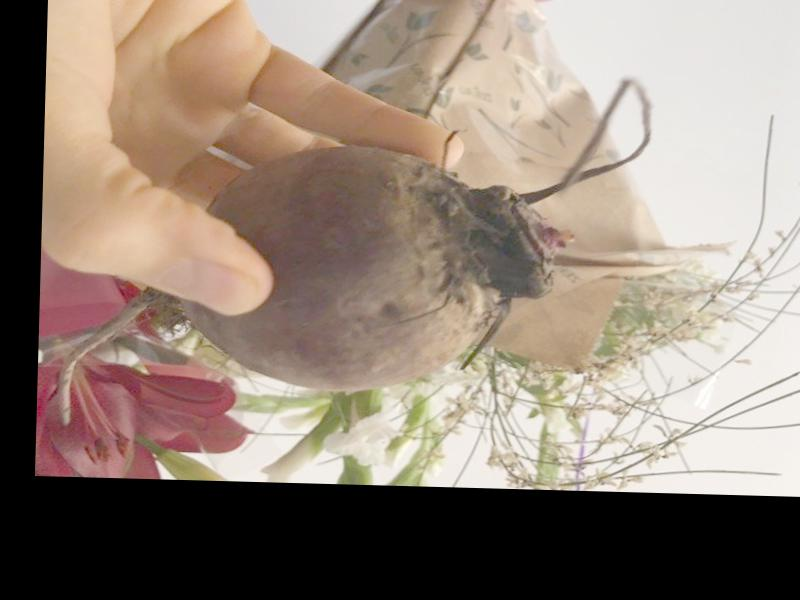Beet: (60, 63, 654, 437)
